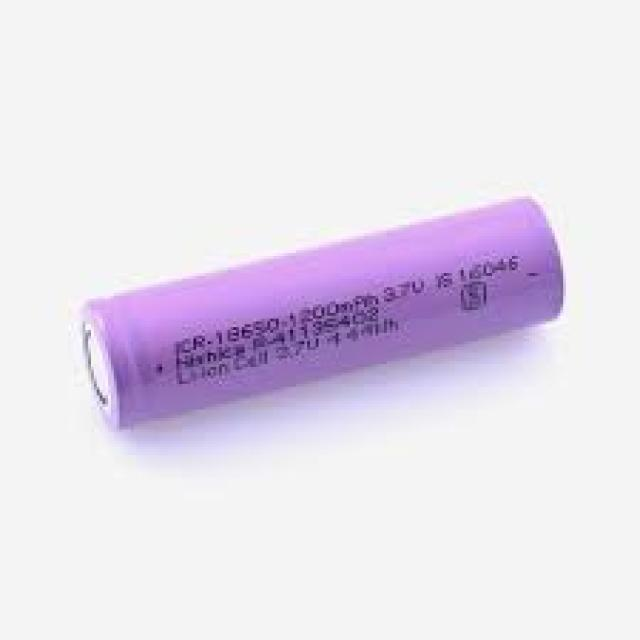Battery: (77, 196, 566, 432)
